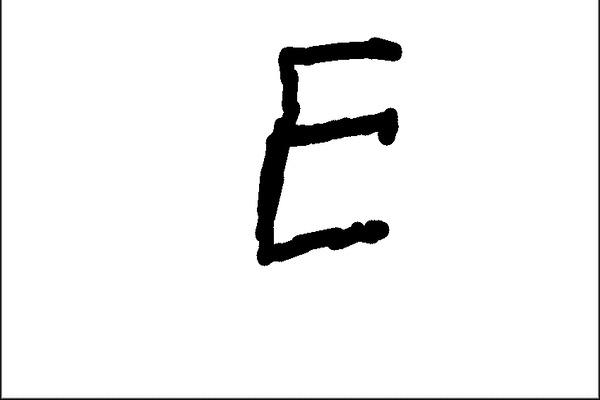E: (247, 31, 408, 269)
